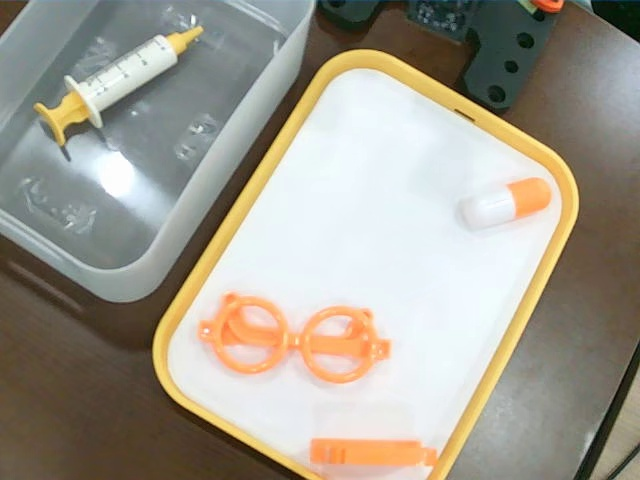pill: (460, 176, 554, 234)
syringe: (31, 22, 206, 145)
